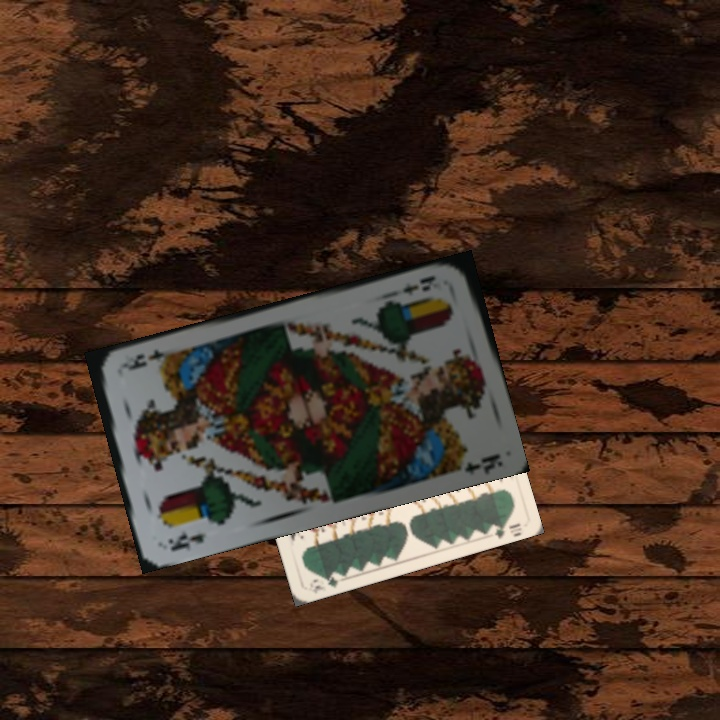EK: (164, 529, 208, 554), (399, 271, 438, 299)
G10: (308, 569, 344, 594)
